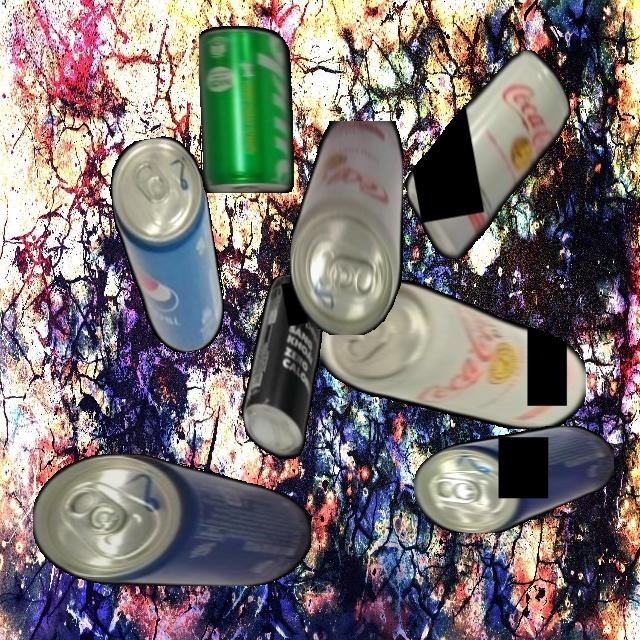debris: (387, 45, 592, 264), (320, 279, 586, 429), (33, 453, 311, 586), (102, 131, 233, 360), (221, 270, 348, 471), (289, 120, 403, 335), (414, 425, 614, 533), (199, 25, 294, 193)
